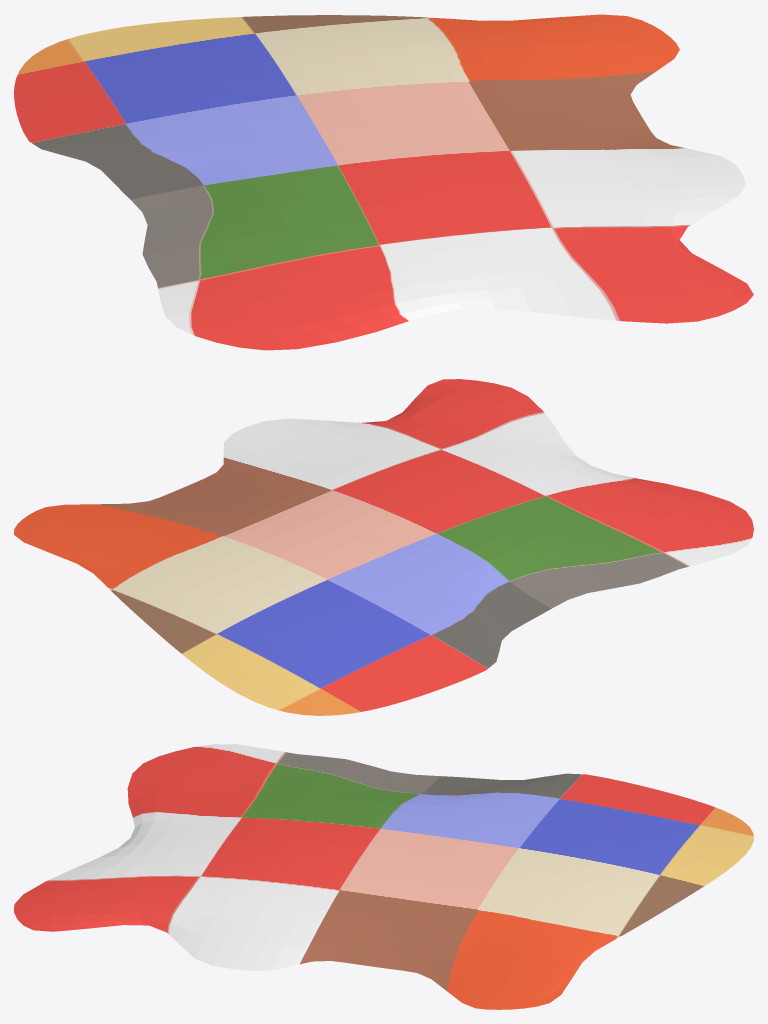
File: lvl1grass_beach.fbx
3 views of the same model, one above another, from view 1: azimuth 30°, elevation 25°; view 2: azimuth 150°, elevation 25°; view 3: azimuth 270°, elevation 25° (orthographic). The views are drawn at different scales.
Parts seen in each view (by area): view 1: grass_beach; view 2: grass_beach; view 3: grass_beach.
Boxes of the visible parts, x1,y1,x2,y2 form: grass_beach: [14, 14, 753, 350]; grass_beach: [14, 379, 753, 715]; grass_beach: [14, 744, 753, 1009].
Bounding box in the file's own units: 1055 × 48.56 × 1238.
